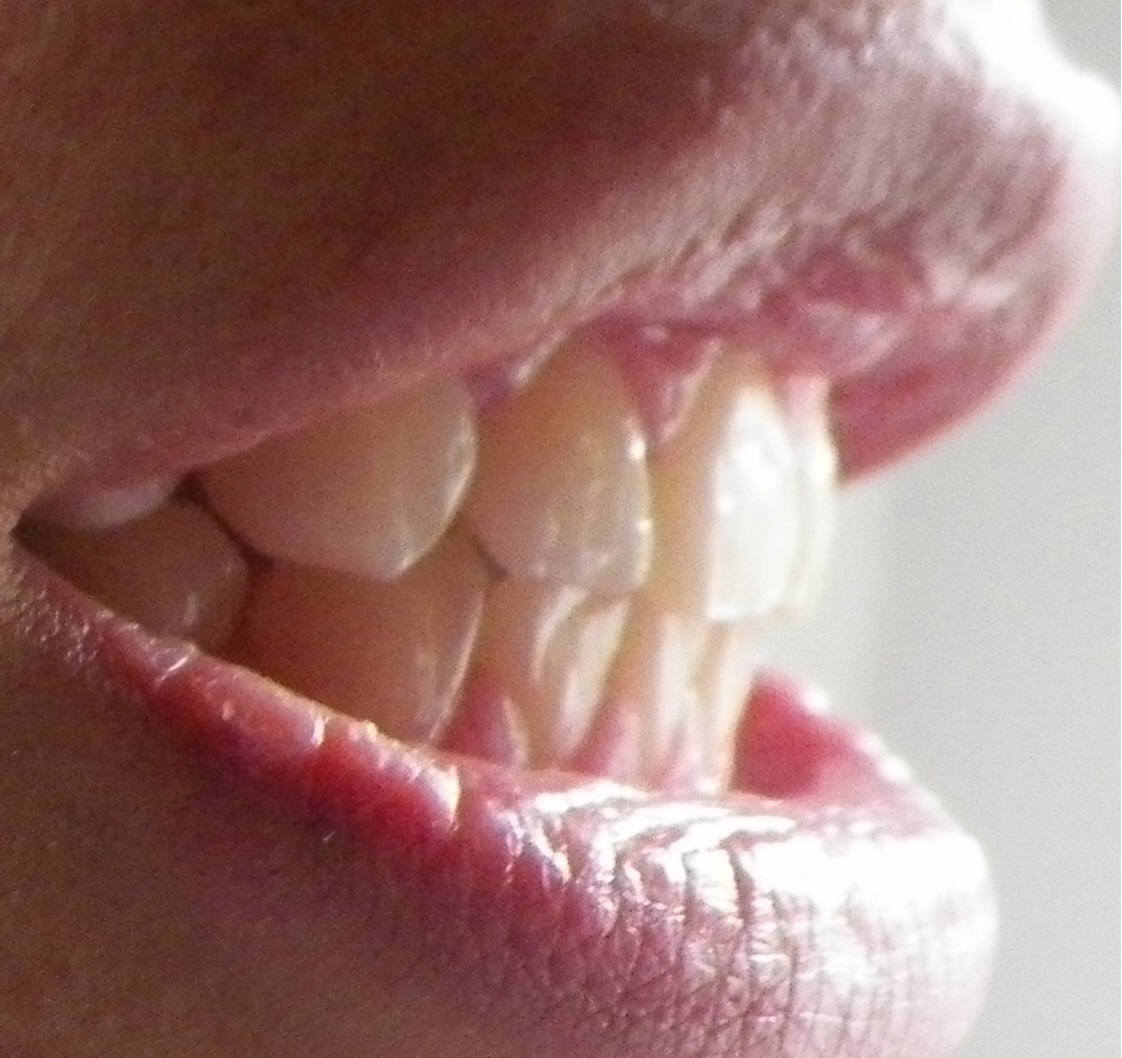boca: (33, 342, 856, 779)
